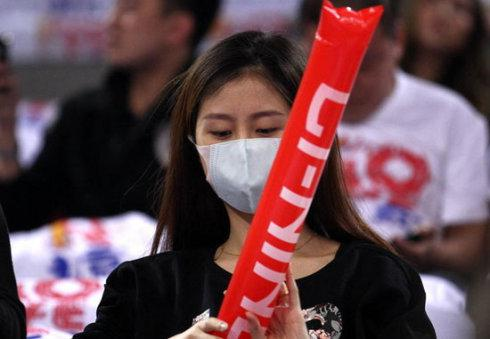NONE: (107, 1, 167, 64), (413, 1, 476, 53)
OK: (194, 104, 301, 211)
